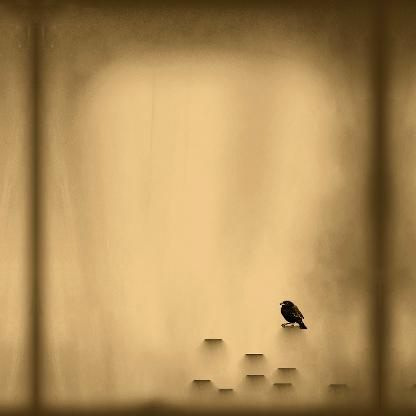Bird: (274, 300, 312, 334)
